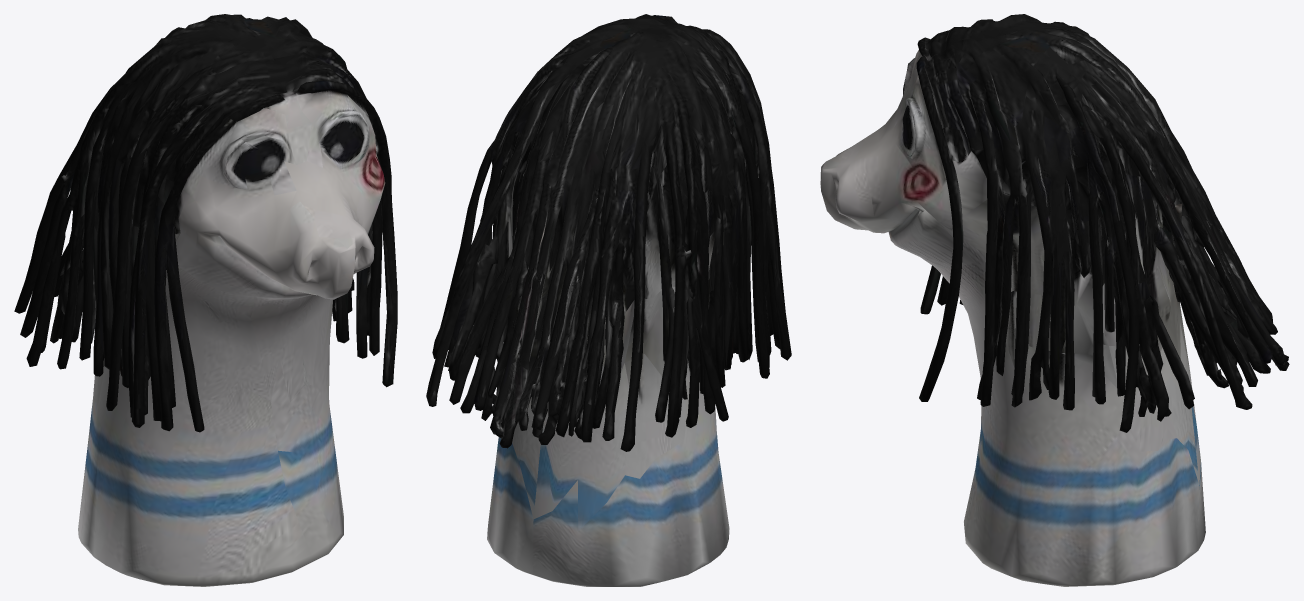
File: main.glb
3 views of the same model, side by side, from view 1: azimuth 30°, elevation 25°; view 2: azimuth 150°, elevation 25°; view 3: azimuth 270°, elevation 25° (orthographic). The views are drawn at different scales.
Visible parts, largest first — view 1: tripo_node_e7c6a643-a537-479e-aadf-7e9c0d7863a3; view 2: tripo_node_e7c6a643-a537-479e-aadf-7e9c0d7863a3; view 3: tripo_node_e7c6a643-a537-479e-aadf-7e9c0d7863a3.
Boxes of the visible parts, bbox=[...] form: tripo_node_e7c6a643-a537-479e-aadf-7e9c0d7863a3: bbox=[14, 14, 397, 586]; tripo_node_e7c6a643-a537-479e-aadf-7e9c0d7863a3: bbox=[426, 14, 791, 586]; tripo_node_e7c6a643-a537-479e-aadf-7e9c0d7863a3: bbox=[820, 14, 1289, 586].
Bounding box in the file's own units: 632 × 1000 × 835.
1 material, 1 textured.
